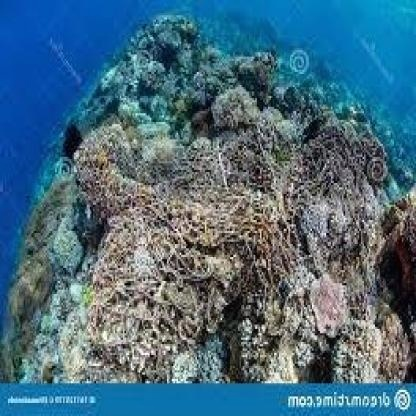net: (82, 133, 394, 346)
